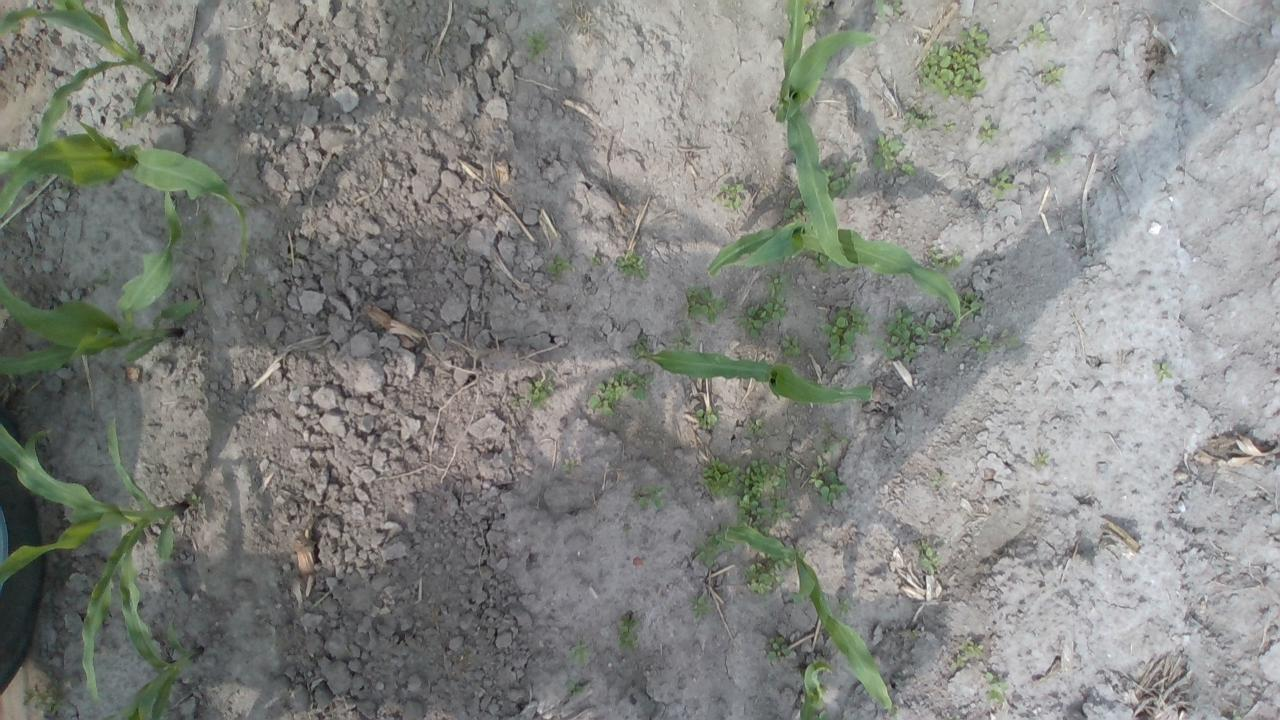Maize: (2, 417, 194, 702), (3, 189, 204, 376), (0, 130, 248, 272), (716, 518, 894, 714), (704, 218, 966, 326), (0, 0, 176, 157), (772, 1, 858, 270), (110, 530, 208, 718), (643, 346, 874, 410), (792, 662, 834, 718)
Weeds: (701, 454, 800, 541), (942, 293, 1016, 359), (916, 27, 986, 96), (786, 160, 850, 224), (747, 541, 805, 601), (739, 272, 790, 338), (880, 312, 940, 362), (590, 366, 648, 414), (801, 456, 851, 507), (694, 548, 720, 622), (827, 310, 865, 360), (869, 136, 914, 176), (898, 108, 957, 137), (684, 285, 724, 326), (924, 243, 966, 272), (518, 376, 554, 409), (944, 644, 986, 672), (760, 634, 794, 665), (718, 182, 749, 215), (633, 486, 666, 515), (566, 642, 596, 669), (616, 616, 638, 650), (613, 252, 644, 276), (1038, 60, 1064, 88), (994, 170, 1016, 201), (918, 544, 936, 580), (525, 30, 548, 57), (975, 119, 998, 146), (986, 676, 1008, 704), (695, 404, 717, 432), (874, 1, 906, 20), (542, 257, 568, 279), (1046, 146, 1068, 168), (1030, 18, 1050, 42), (1154, 356, 1171, 384), (778, 338, 800, 356), (1034, 445, 1050, 468)
